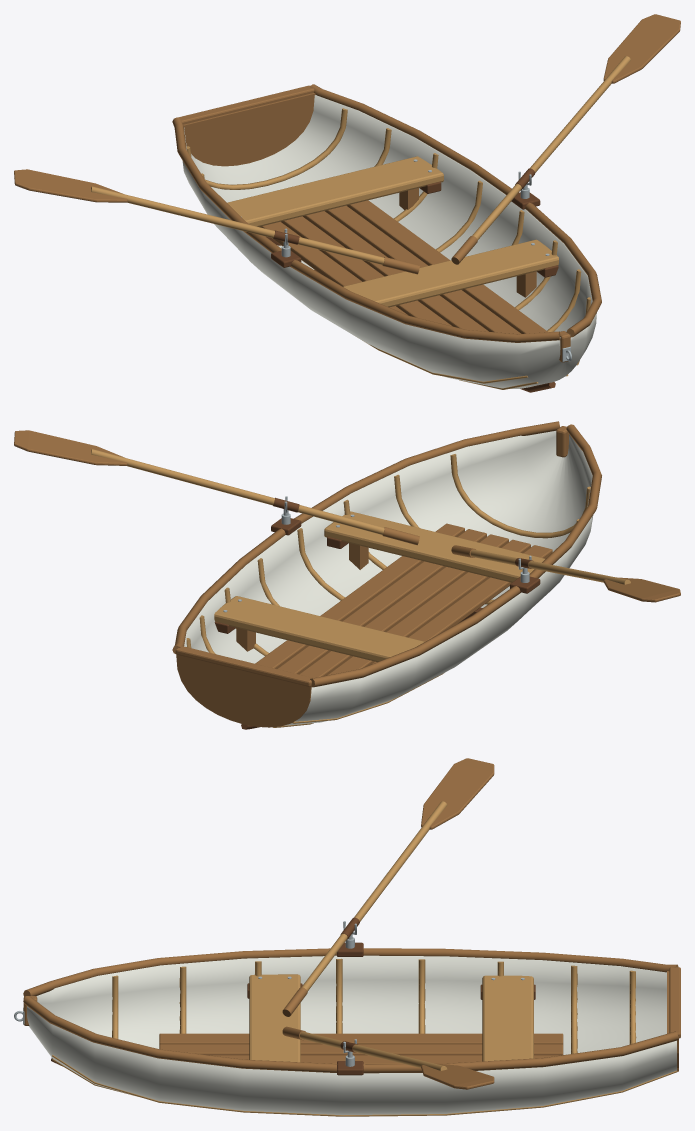
File: city-rowboat-with-oars.glb
3 views of the same model, one above another, from view 1: azimuth 30°, elevation 25°; view 2: azimuth 150°, elevation 25°; view 3: azimuth 270°, elevation 25° (orthographic).
Parts seen in each view (by area): view 1: Assembly | Warm ivory hull enamel, Assembly | Oiled honey timber, Assembly | Timber end and seat faces, Assembly | Dark timber joinery; view 2: Assembly | Warm ivory hull enamel, Assembly | Oiled honey timber, Assembly | Timber end and seat faces, Assembly | Dark timber joinery; view 3: Assembly | Warm ivory hull enamel, Assembly | Oiled honey timber, Assembly | Timber end and seat faces, Assembly | Dark timber joinery.
Part boxes in pixels (box(x1,y1,x2,y2)): Assembly | Warm ivory hull enamel: box(182, 95, 596, 388); Assembly | Oiled honey timber: box(14, 14, 680, 362); Assembly | Timber end and seat faces: box(91, 56, 630, 389); Assembly | Dark timber joinery: box(266, 168, 558, 392); Assembly | Warm ivory hull enamel: box(184, 431, 593, 725); Assembly | Oiled honey timber: box(14, 421, 680, 727); Assembly | Timber end and seat faces: box(91, 449, 630, 727); Assembly | Dark timber joinery: box(214, 497, 540, 729); Assembly | Warm ivory hull enamel: box(27, 955, 676, 1115); Assembly | Oiled honey timber: box(23, 758, 680, 1089); Assembly | Timber end and seat faces: box(52, 801, 677, 1116); Assembly | Dark timber joinery: box(51, 917, 535, 1075).
Size of the model in its own units: 4.24 by 1.06 by 3.63.
